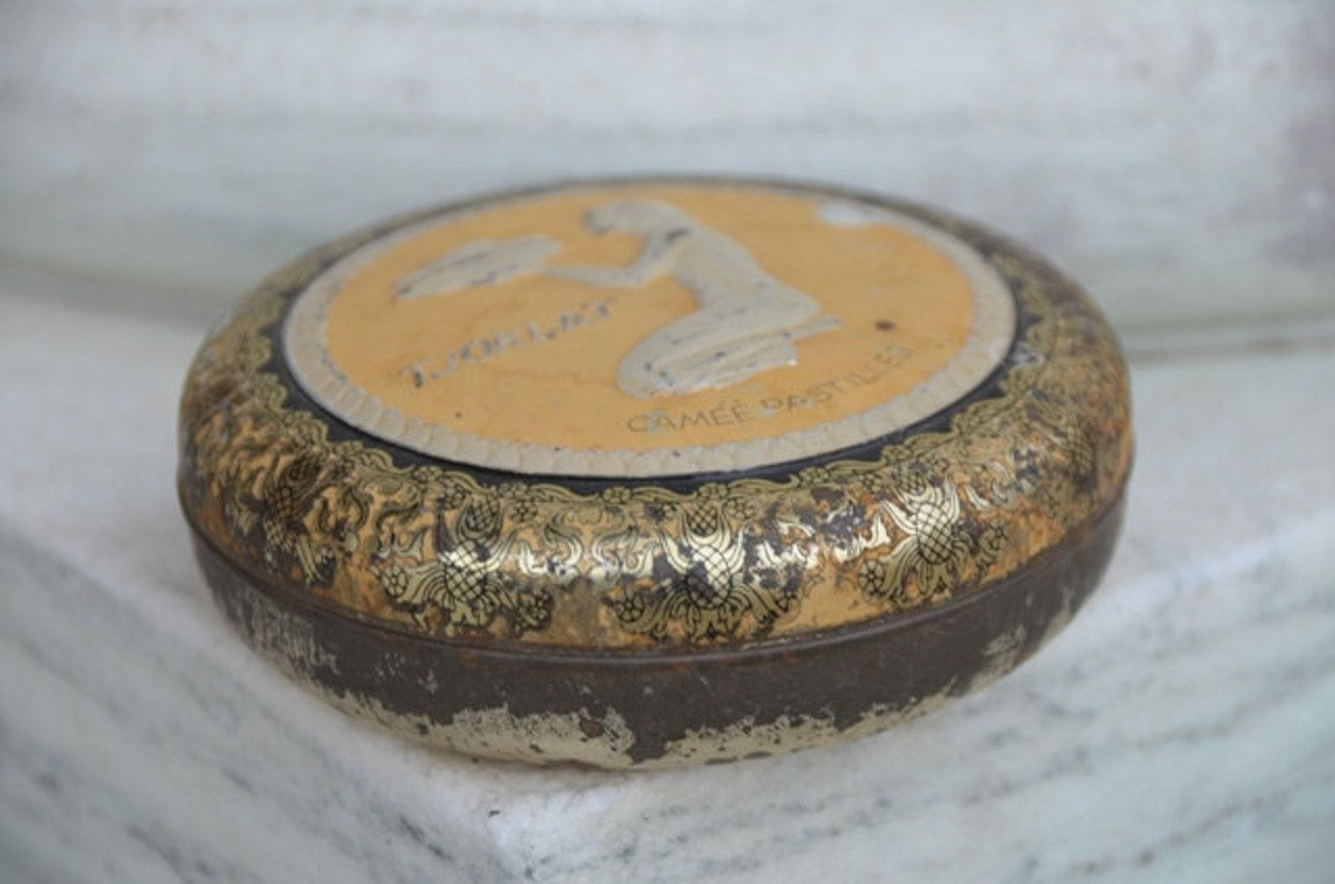metal: (177, 176, 1135, 767)
